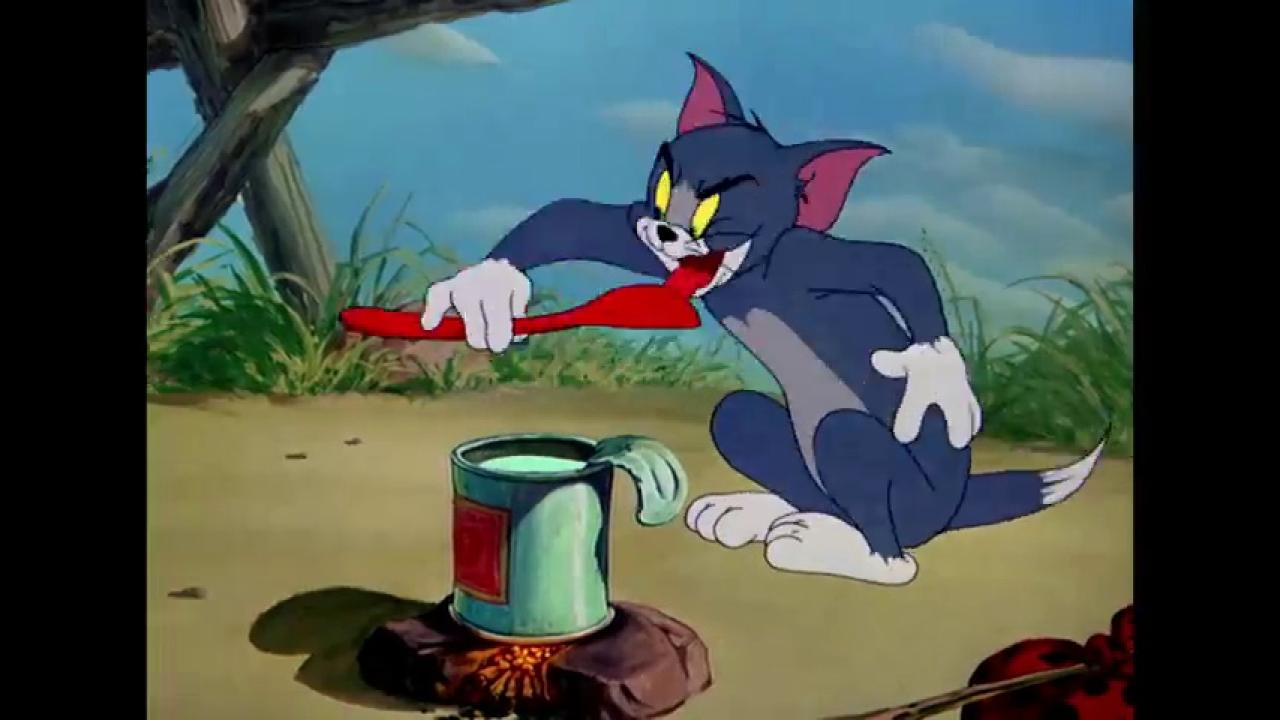Tom: (419, 49, 1114, 589)
